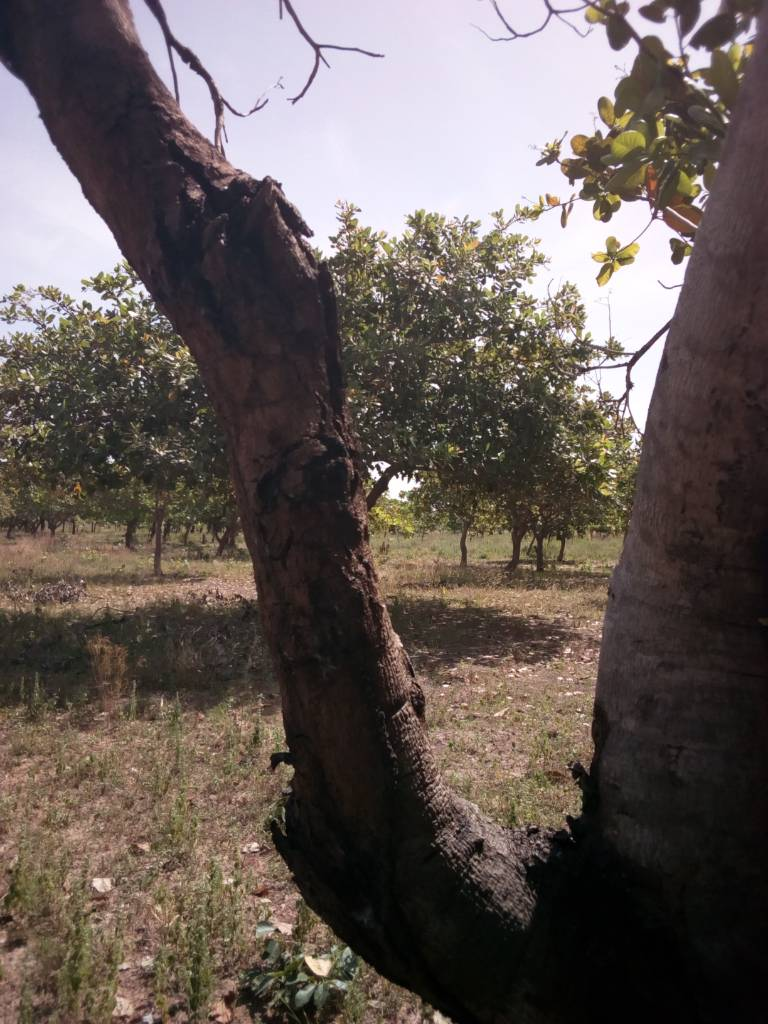Gommose: (155, 178, 386, 635)
